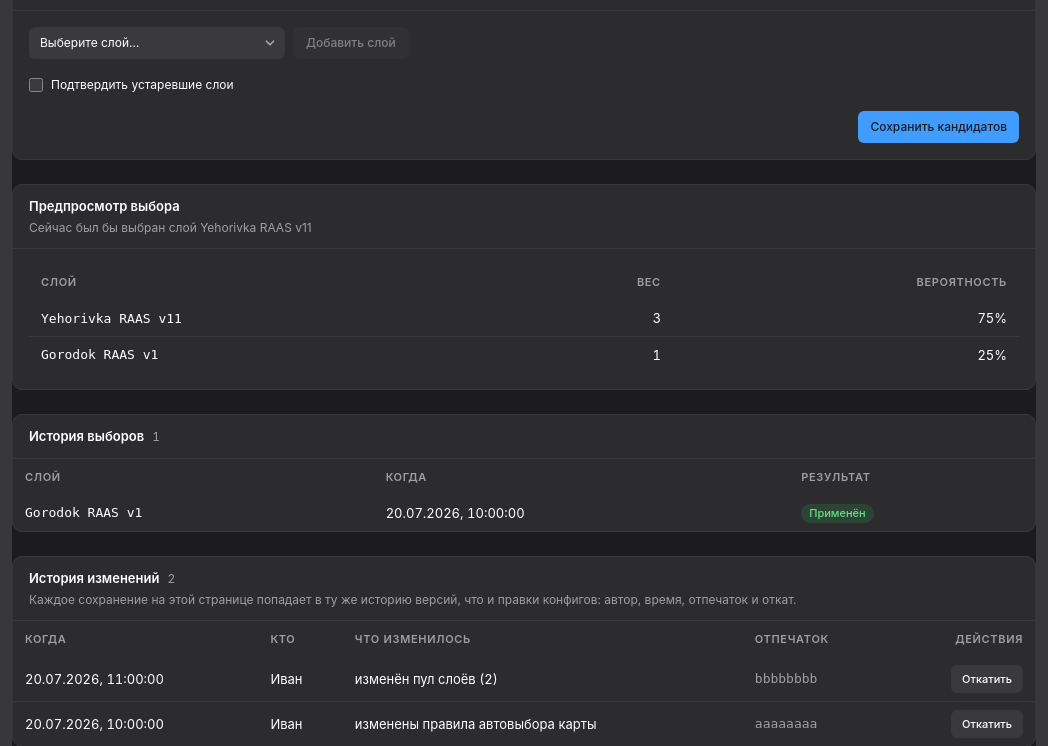
Scenario: MapVotePage — история изменений › откатывает к выбранной версии и перечитывает состояние
(page scrolled)
Click the button "Откатить" in the row of "20.07.2026, 11:00:00".
click(987, 679)  # box [951,665,1023,693]
(page scrolled)
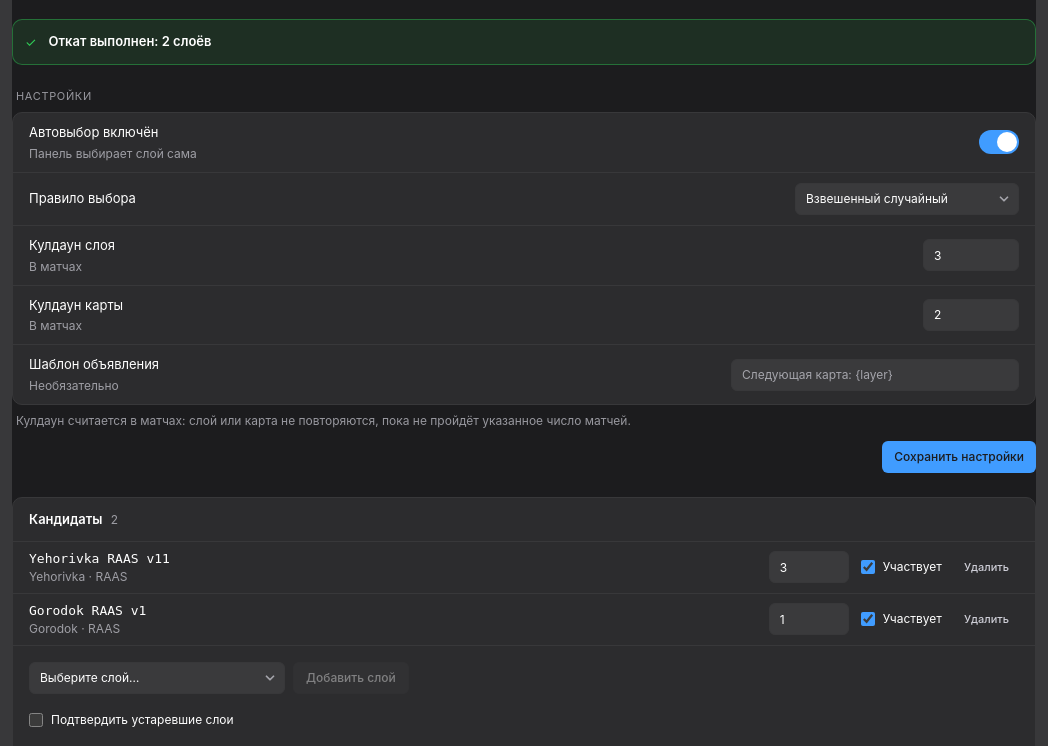
Result: the text "Откат выполнен: 2 слоёв" is shown at [48,33,212,49]
